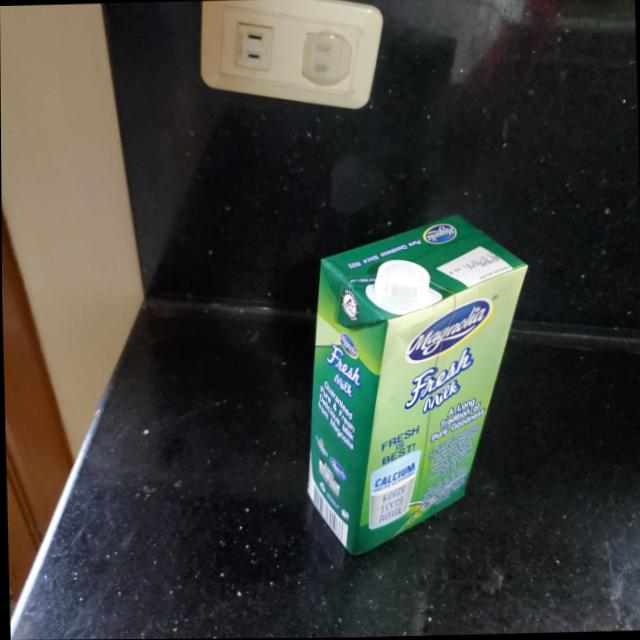milk: (302, 216, 541, 559)
